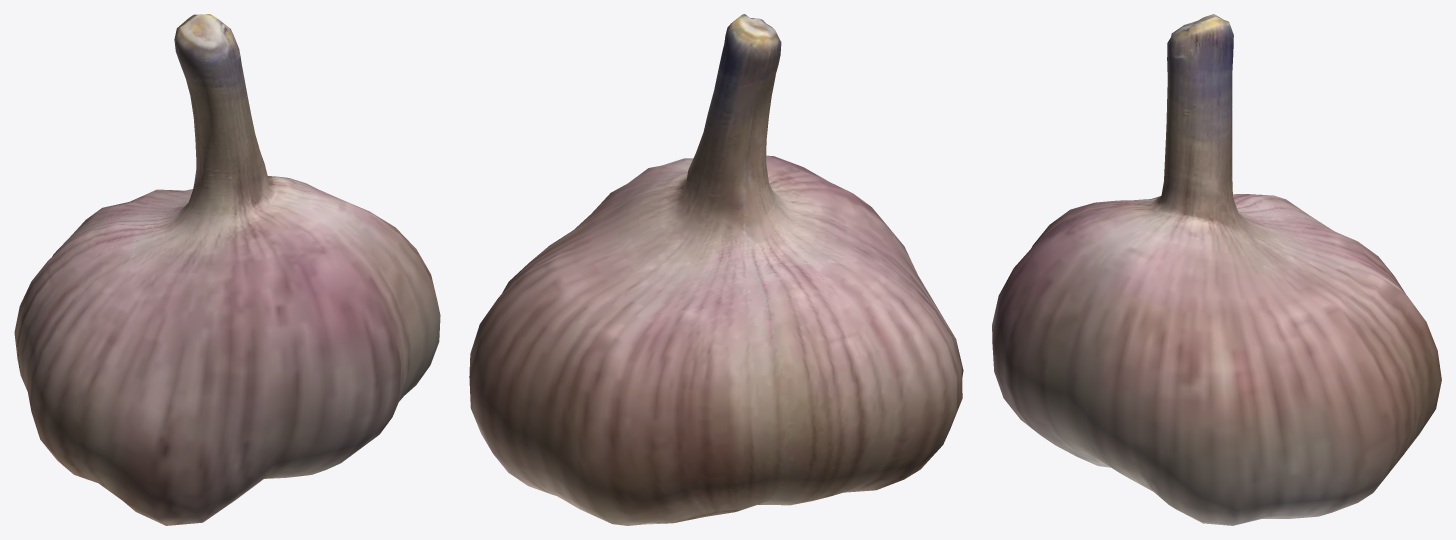
The model's file is obj_garlic_game_ready_2k_pbr.glb.
The picture shows the model from 3 angles, left to right: view 1: azimuth 30°, elevation 25°; view 2: azimuth 150°, elevation 25°; view 3: azimuth 270°, elevation 25°; orthographic projection. The views are drawn at different scales.
Visible parts, largest first — view 1: Garlic_Garlic_0; view 2: Garlic_Garlic_0; view 3: Garlic_Garlic_0.
Boxes of the visible parts, x1,y1,x2,y2 form: Garlic_Garlic_0: (14, 14, 440, 525); Garlic_Garlic_0: (469, 14, 963, 525); Garlic_Garlic_0: (992, 14, 1441, 525).
Size of the model in its own units: 0.0567 by 0.06 by 0.055.
1 material, 1 textured.
